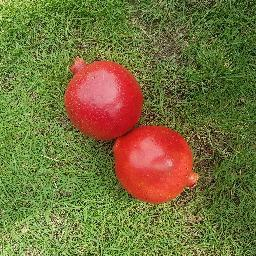Good_pomegranate: (64, 49, 147, 141), (110, 136, 197, 204)
